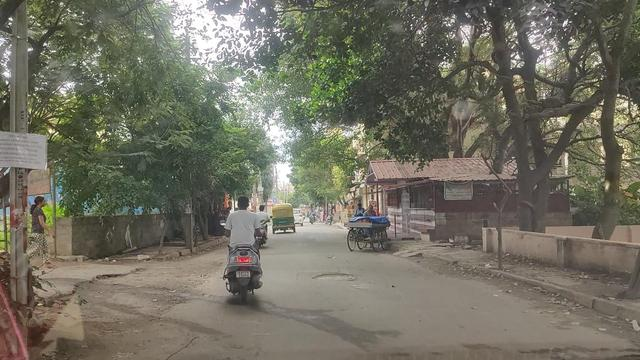LMV: (225, 192, 262, 310)
RoadDamages: (130, 325, 225, 360), (160, 271, 209, 301), (313, 268, 355, 284)
